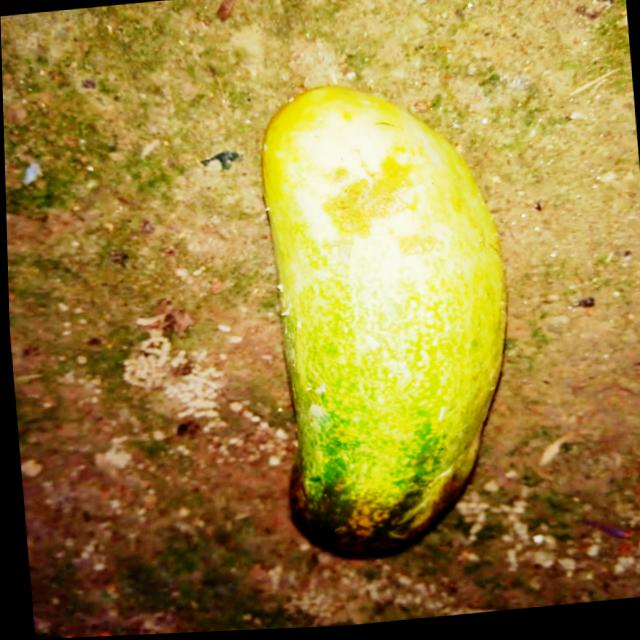Belly-Rot: (317, 152, 436, 275)
